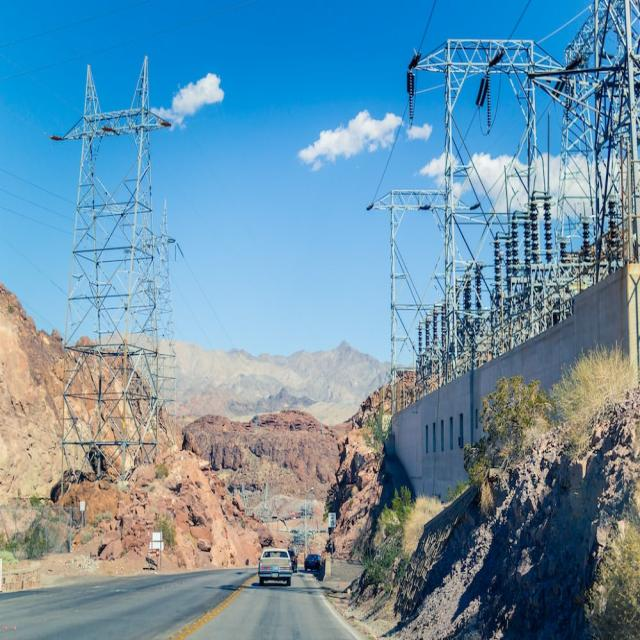insulator: (523, 199, 547, 272), (468, 270, 496, 326), (489, 235, 510, 298)
transmission tower: (42, 63, 174, 465)
